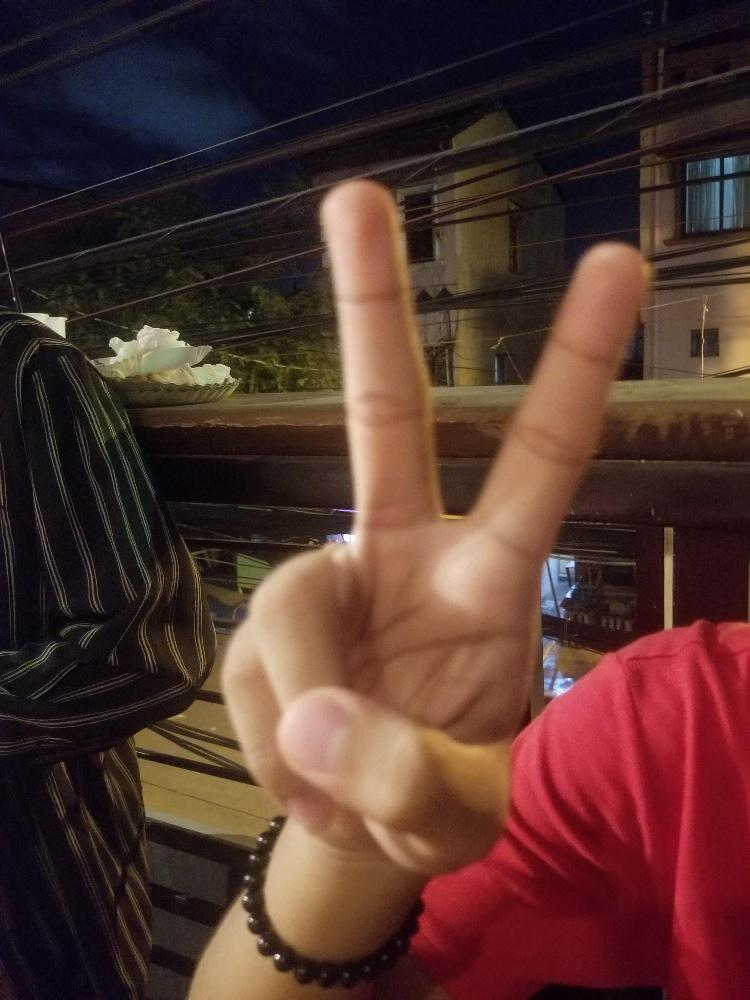v: (216, 176, 652, 878)
